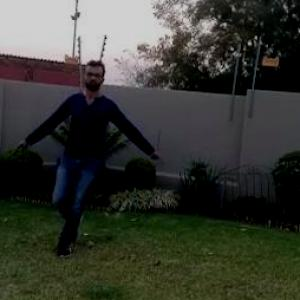land: (20, 64, 152, 246)
